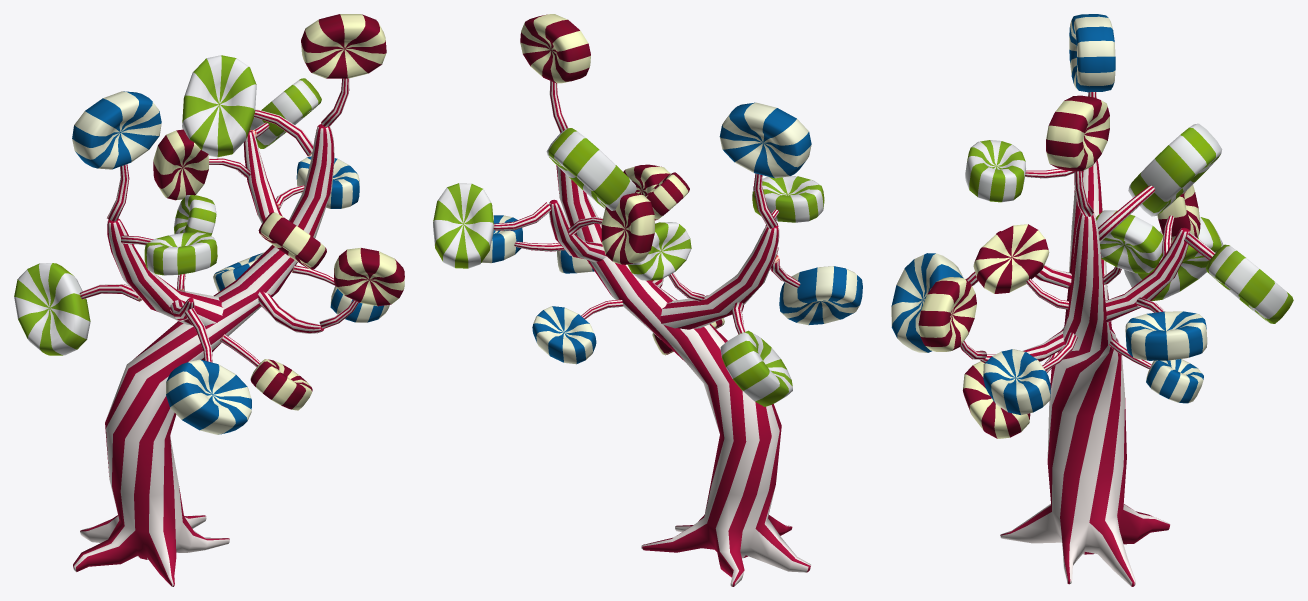
File: cw_tree_13.fbx
3 renders of one model, left to right at view 1: azimuth 30°, elevation 25°; view 2: azimuth 150°, elevation 25°; view 3: azimuth 270°, elevation 25°, orthographic. The views are drawn at different scales.
Parts seen in each view (by area): view 1: cw_t_13; view 2: cw_t_13; view 3: cw_t_13.
Boxes of the visible parts, left/top/right/bottom form: cw_t_13: left=14, top=14, right=404, bottom=586; cw_t_13: left=433, top=14, right=862, bottom=586; cw_t_13: left=891, top=14, right=1293, bottom=586.
Size of the model in its own units: 138 by 201 by 134.
